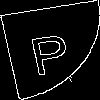P: (25, 25, 74, 76)
